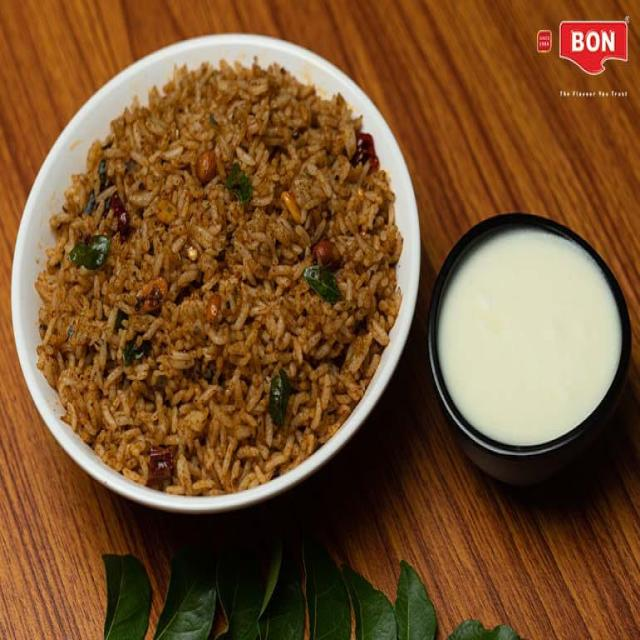puliyogare: (22, 33, 412, 526)
